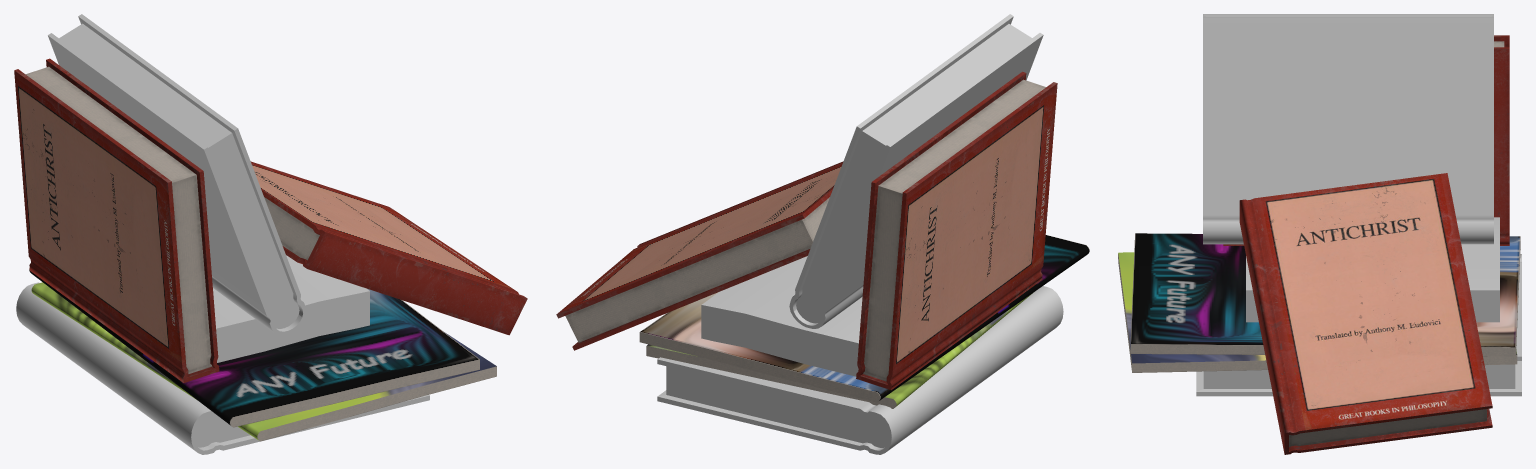
The model's file is SM_Book_Stack_02.FBX.
The picture shows the model from 3 angles, left to right: view 1: azimuth 30°, elevation 25°; view 2: azimuth 150°, elevation 25°; view 3: azimuth 270°, elevation 25°; orthographic projection. The views are drawn at different scales.
Visible parts, largest first — view 1: SM_Book_Stack_02_LOD0; view 2: SM_Book_Stack_02_LOD0; view 3: SM_Book_Stack_02_LOD0.
Part boxes in pixels (bbox=[...]): SM_Book_Stack_02_LOD0: bbox=[14, 14, 527, 454]; SM_Book_Stack_02_LOD0: bbox=[556, 14, 1089, 454]; SM_Book_Stack_02_LOD0: bbox=[1118, 14, 1521, 454].
Size of what is drawn, in the model's own units: 41.33 by 39.53 by 31.78.
